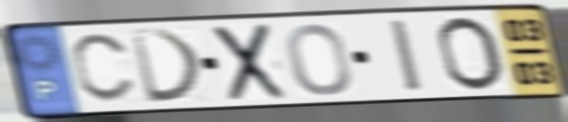C: (68, 31, 139, 106)
D: (127, 27, 208, 107)
I: (386, 17, 427, 95)
O: (434, 14, 509, 94), (283, 21, 355, 98)
X: (211, 21, 290, 104)
